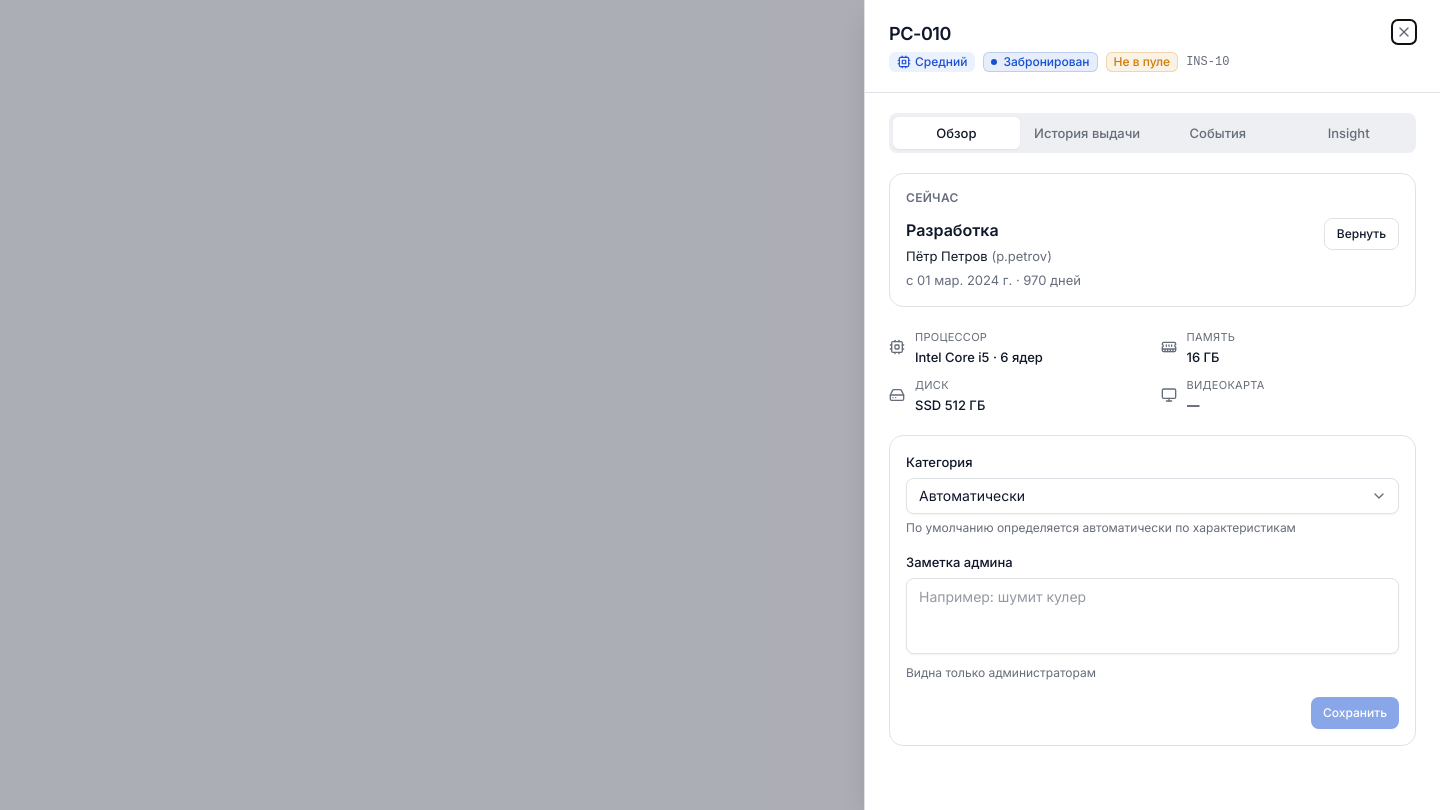
it: ComputerHistorySheet › принудительный возврат › с комментарием: POST /bookings/9/return, тост, диалог закрывается
The width and height of the screenshot is (1440, 810).
Click the button "Вернуть": (1361, 234) [1324, 218, 1399, 250]
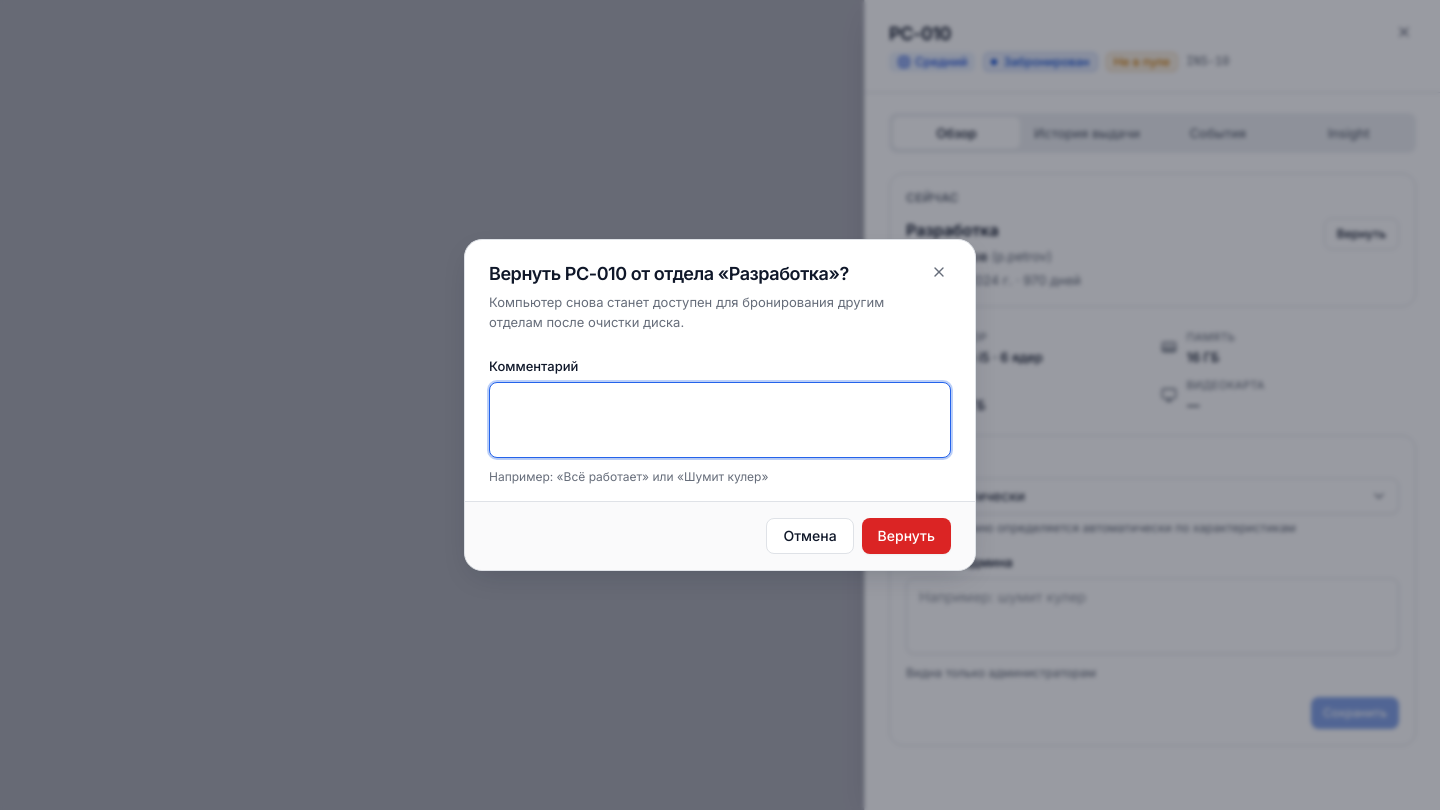
In the text box: (720, 420) [489, 382, 951, 458], type "Всё работает"
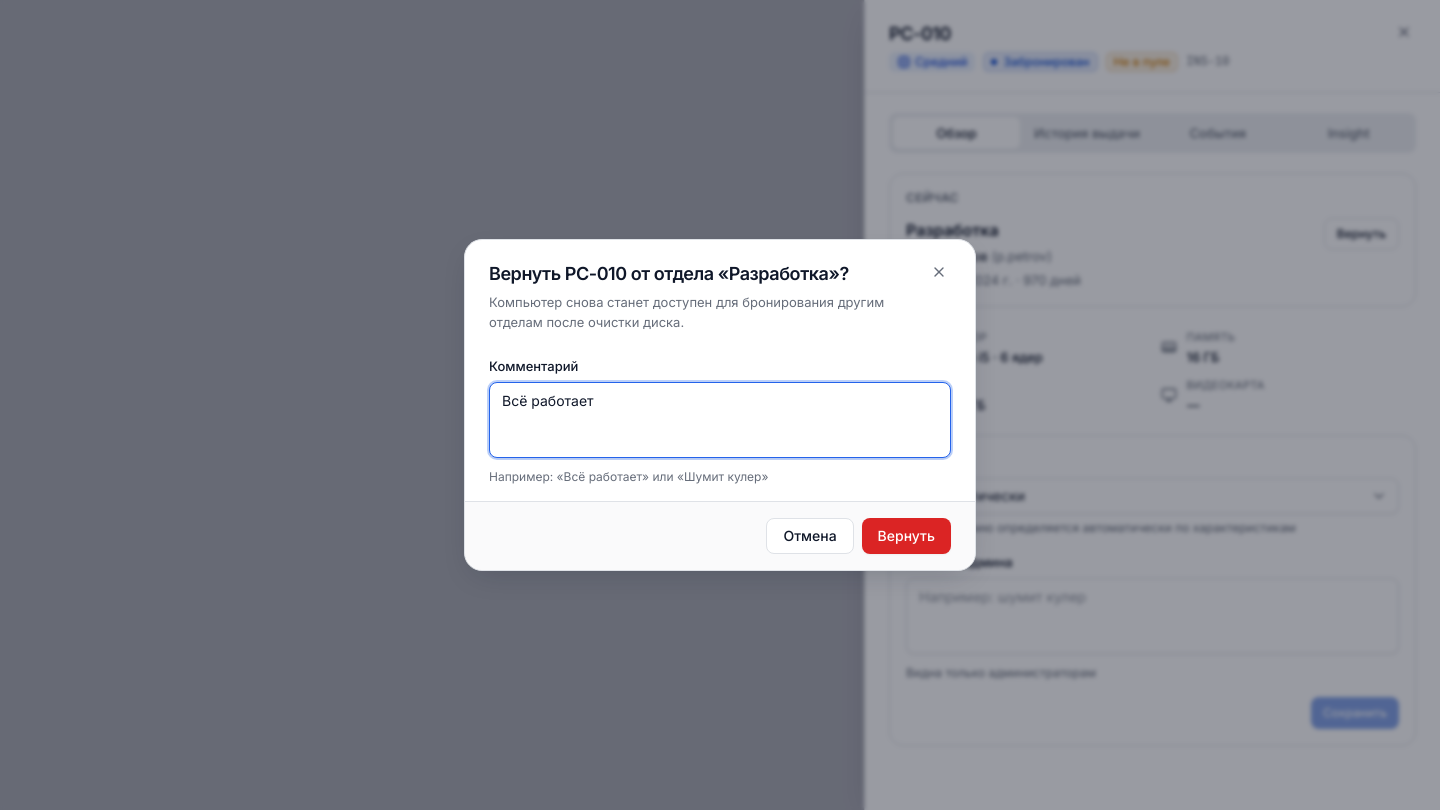
Click the button "Вернуть": (906, 536) [862, 518, 951, 554]
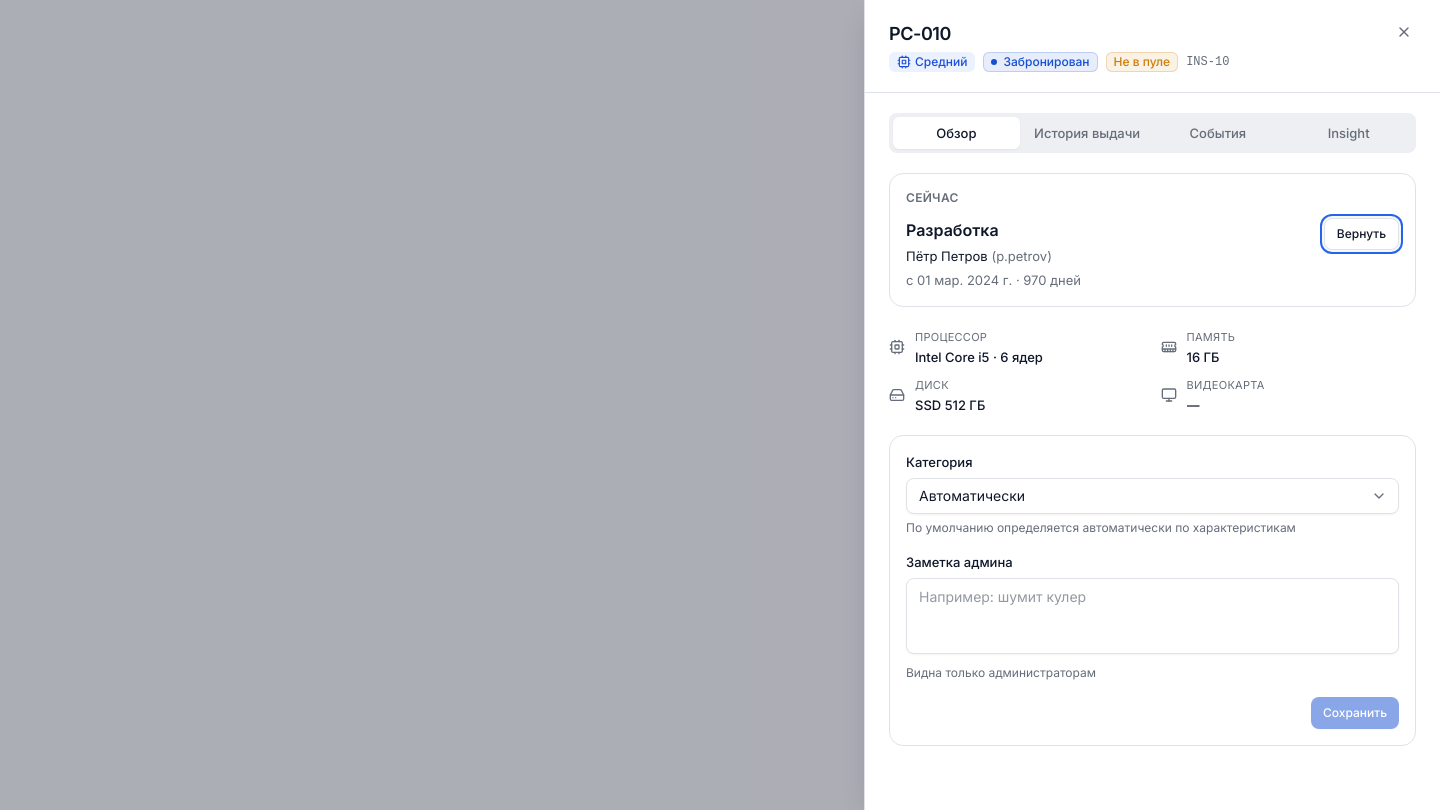
Expected: the heading "Вернуть PC-010" is gone
